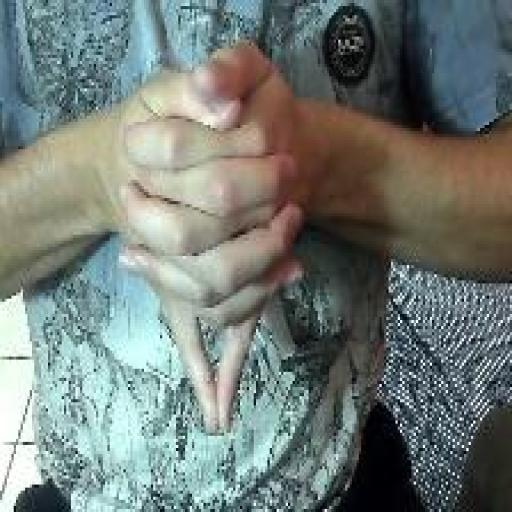Tatsu -dragon-: (113, 33, 314, 442)
